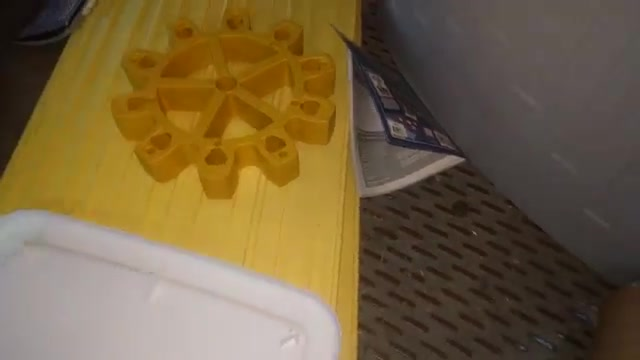gear: (110, 7, 342, 211)
